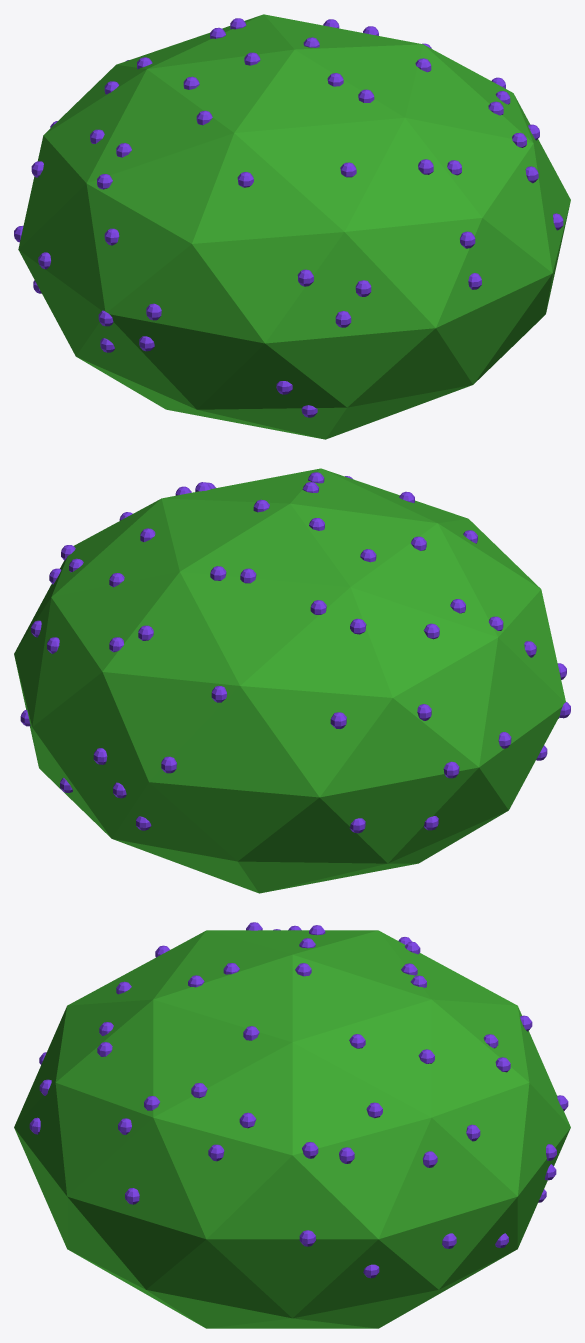
File: Bush.fbx
3 renders of one model, top to bottom at view 1: azimuth 30°, elevation 25°; view 2: azimuth 150°, elevation 25°; view 3: azimuth 270°, elevation 25°, orthographic.
Visible parts, largest first — view 1: bush.001; view 2: bush.001; view 3: bush.001.
Boxes of the visible parts, x1,y1,x2,y2 form: bush.001: (14, 14, 570, 439); bush.001: (14, 468, 570, 893); bush.001: (14, 922, 570, 1328).
Size of the model in its own units: 384 by 254 by 393.
